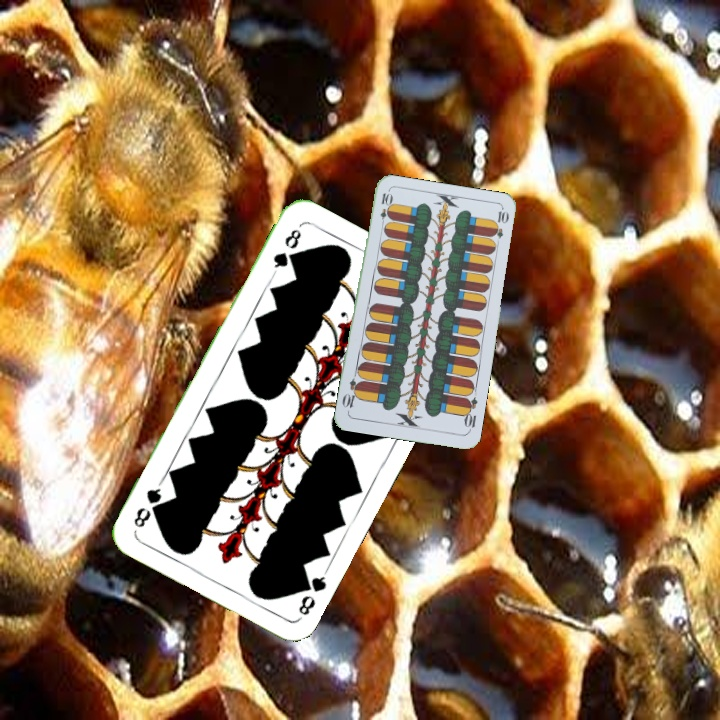E10: (459, 394, 480, 434), (376, 189, 393, 229)
G8: (294, 566, 330, 621), (269, 224, 304, 277)
